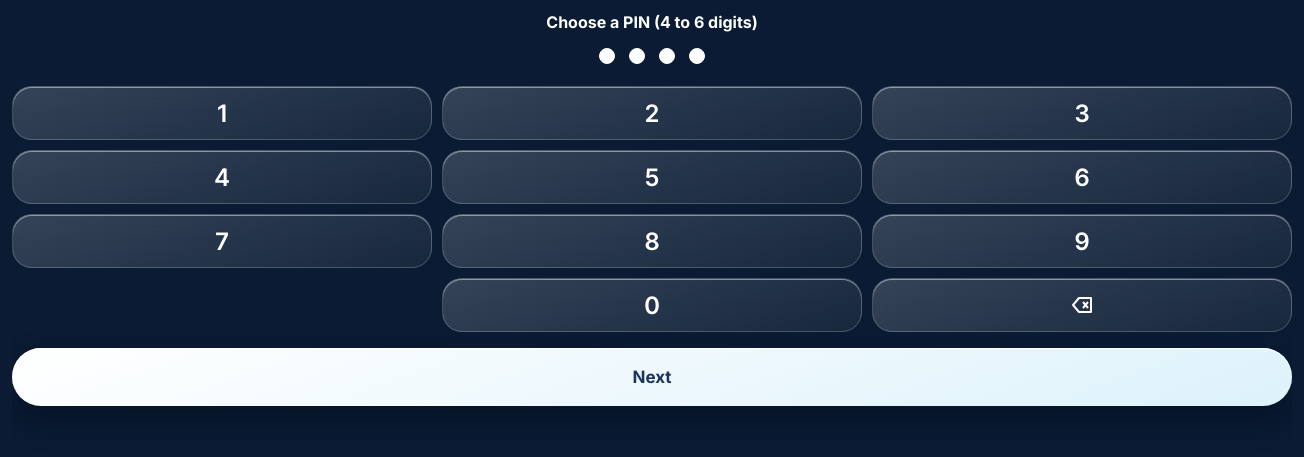
PinSetup asks twice and stores the PIN; mismatch restarts
This screenshot has width=1304, height=457.
Earlier steps of the test are not shown.
Later steps or results of the test are not shown.
Click the button "Next" at (652, 377), box left=12, top=348, right=1292, bottom=406
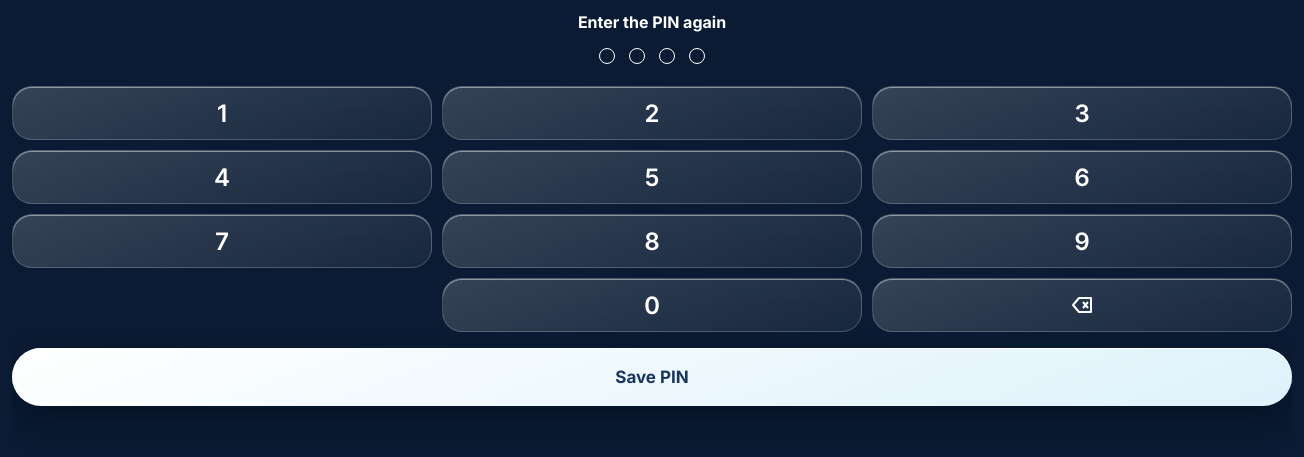
Now the text "Enter the PIN again" is shown, box left=578, top=12, right=726, bottom=32
Click the button "9" at (1082, 241), box left=872, top=214, right=1292, bottom=268
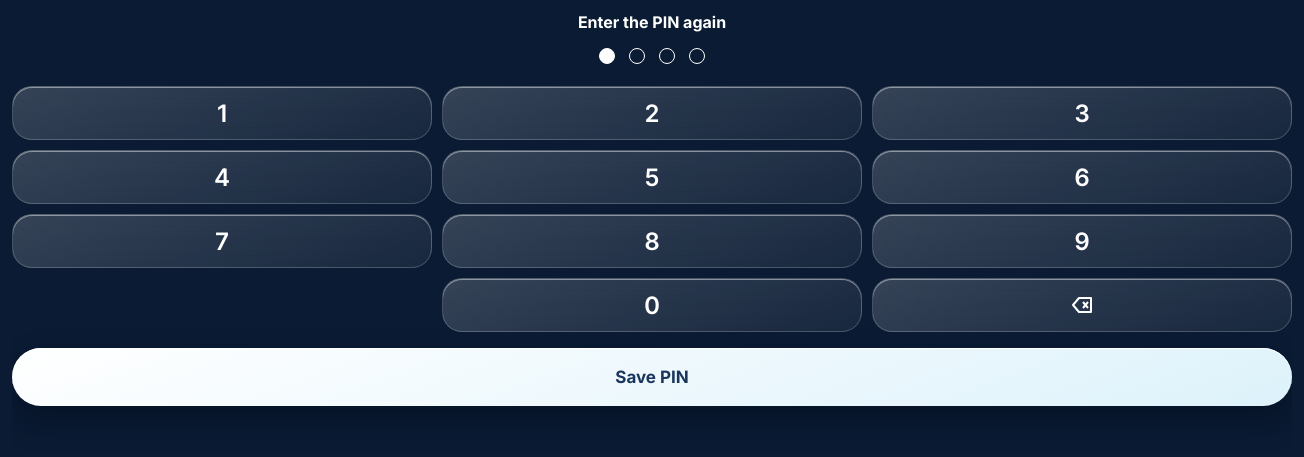
Click the button "9" at (1082, 241), box left=872, top=214, right=1292, bottom=268
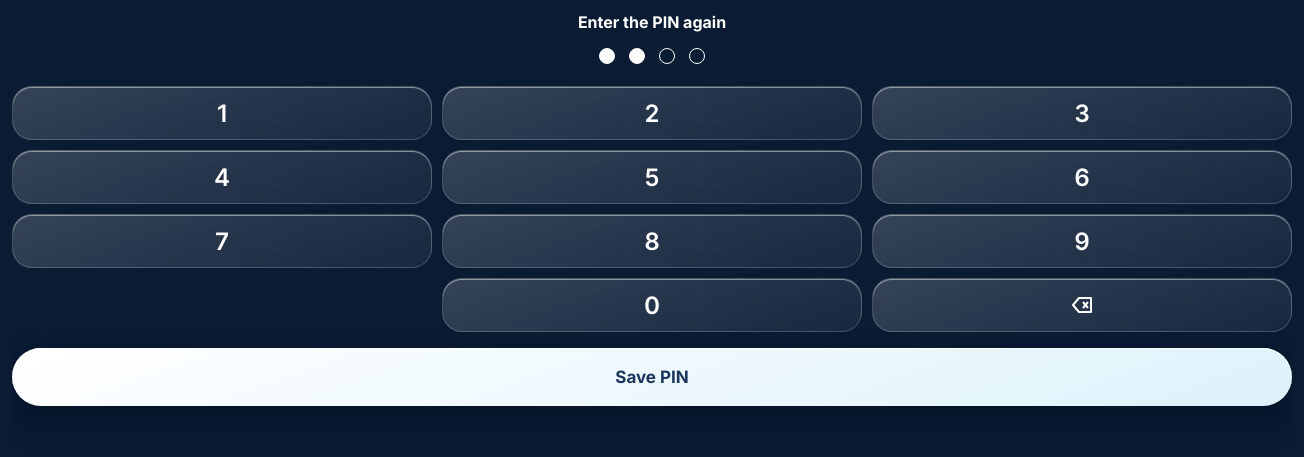
Click the button "9" at (1082, 241), box left=872, top=214, right=1292, bottom=268
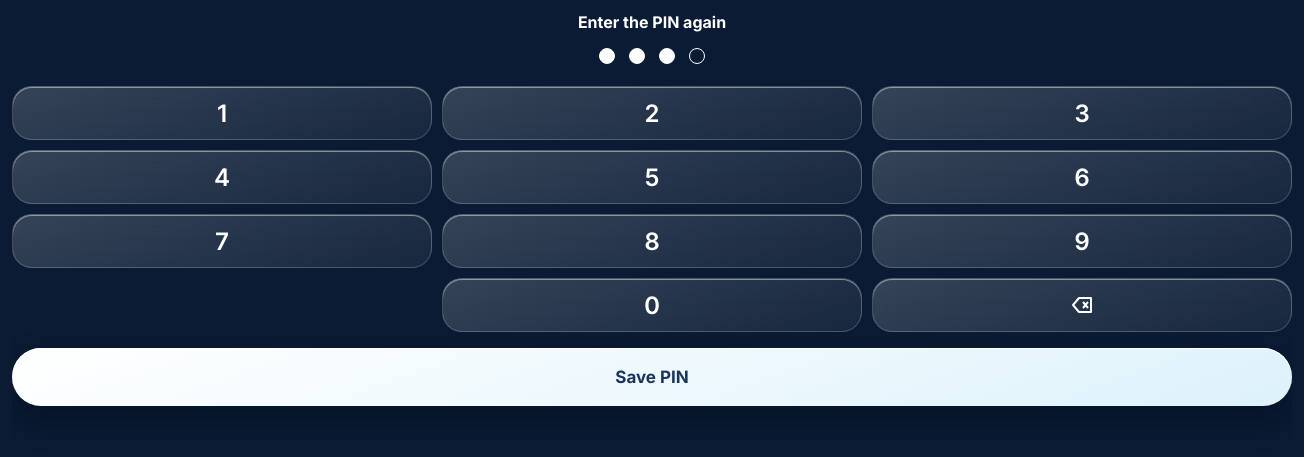
Click the button "9" at (1082, 241), box left=872, top=214, right=1292, bottom=268
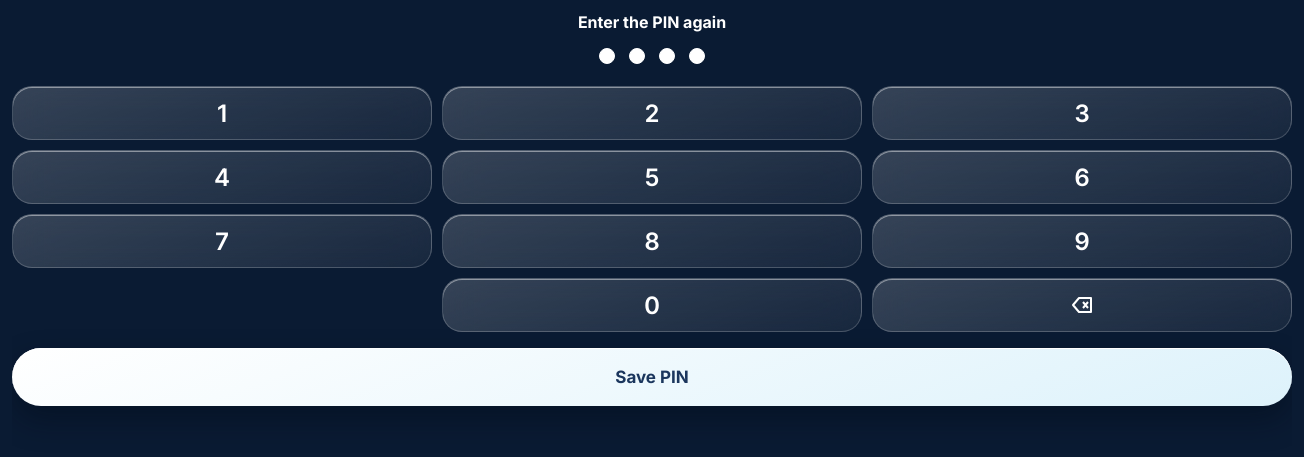
Click the button "Save PIN" at (652, 377), box left=12, top=348, right=1292, bottom=406
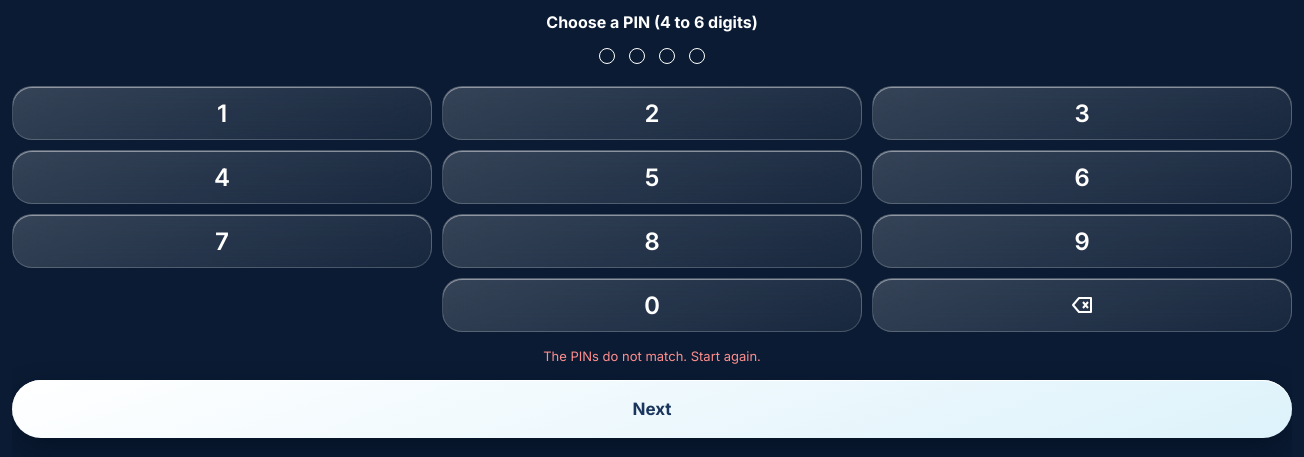
Now the text "The PINs do not match. Start again." is shown, box left=543, top=348, right=761, bottom=364
